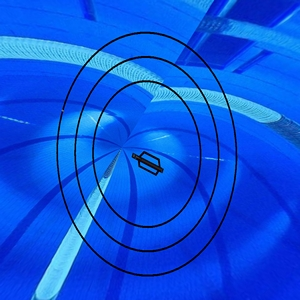circle: (55, 30, 239, 279)
submarine: (130, 149, 167, 179)
